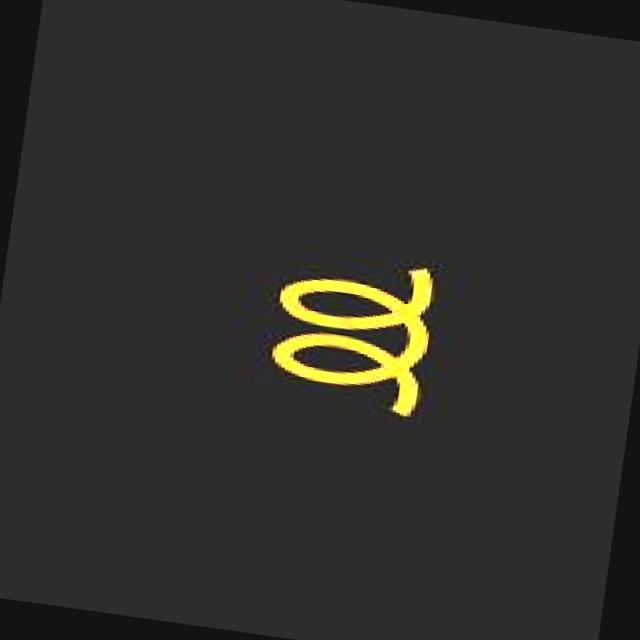kontrolka: (260, 232, 460, 428)
